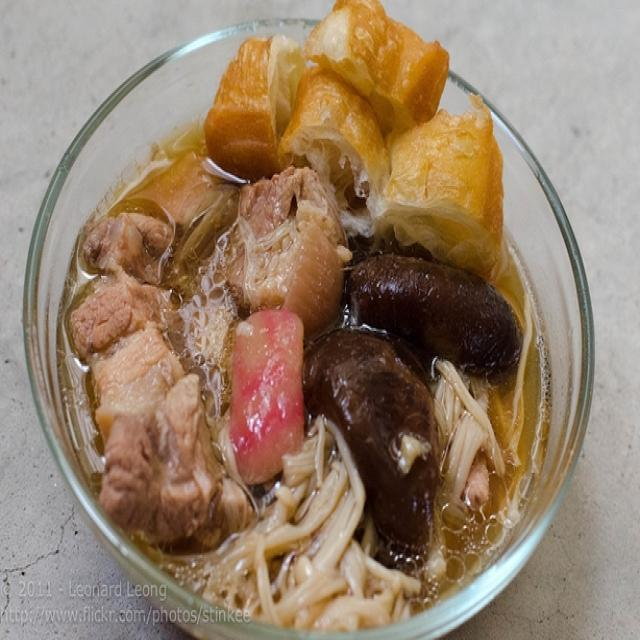汤锅炖物: (33, 24, 576, 621)
